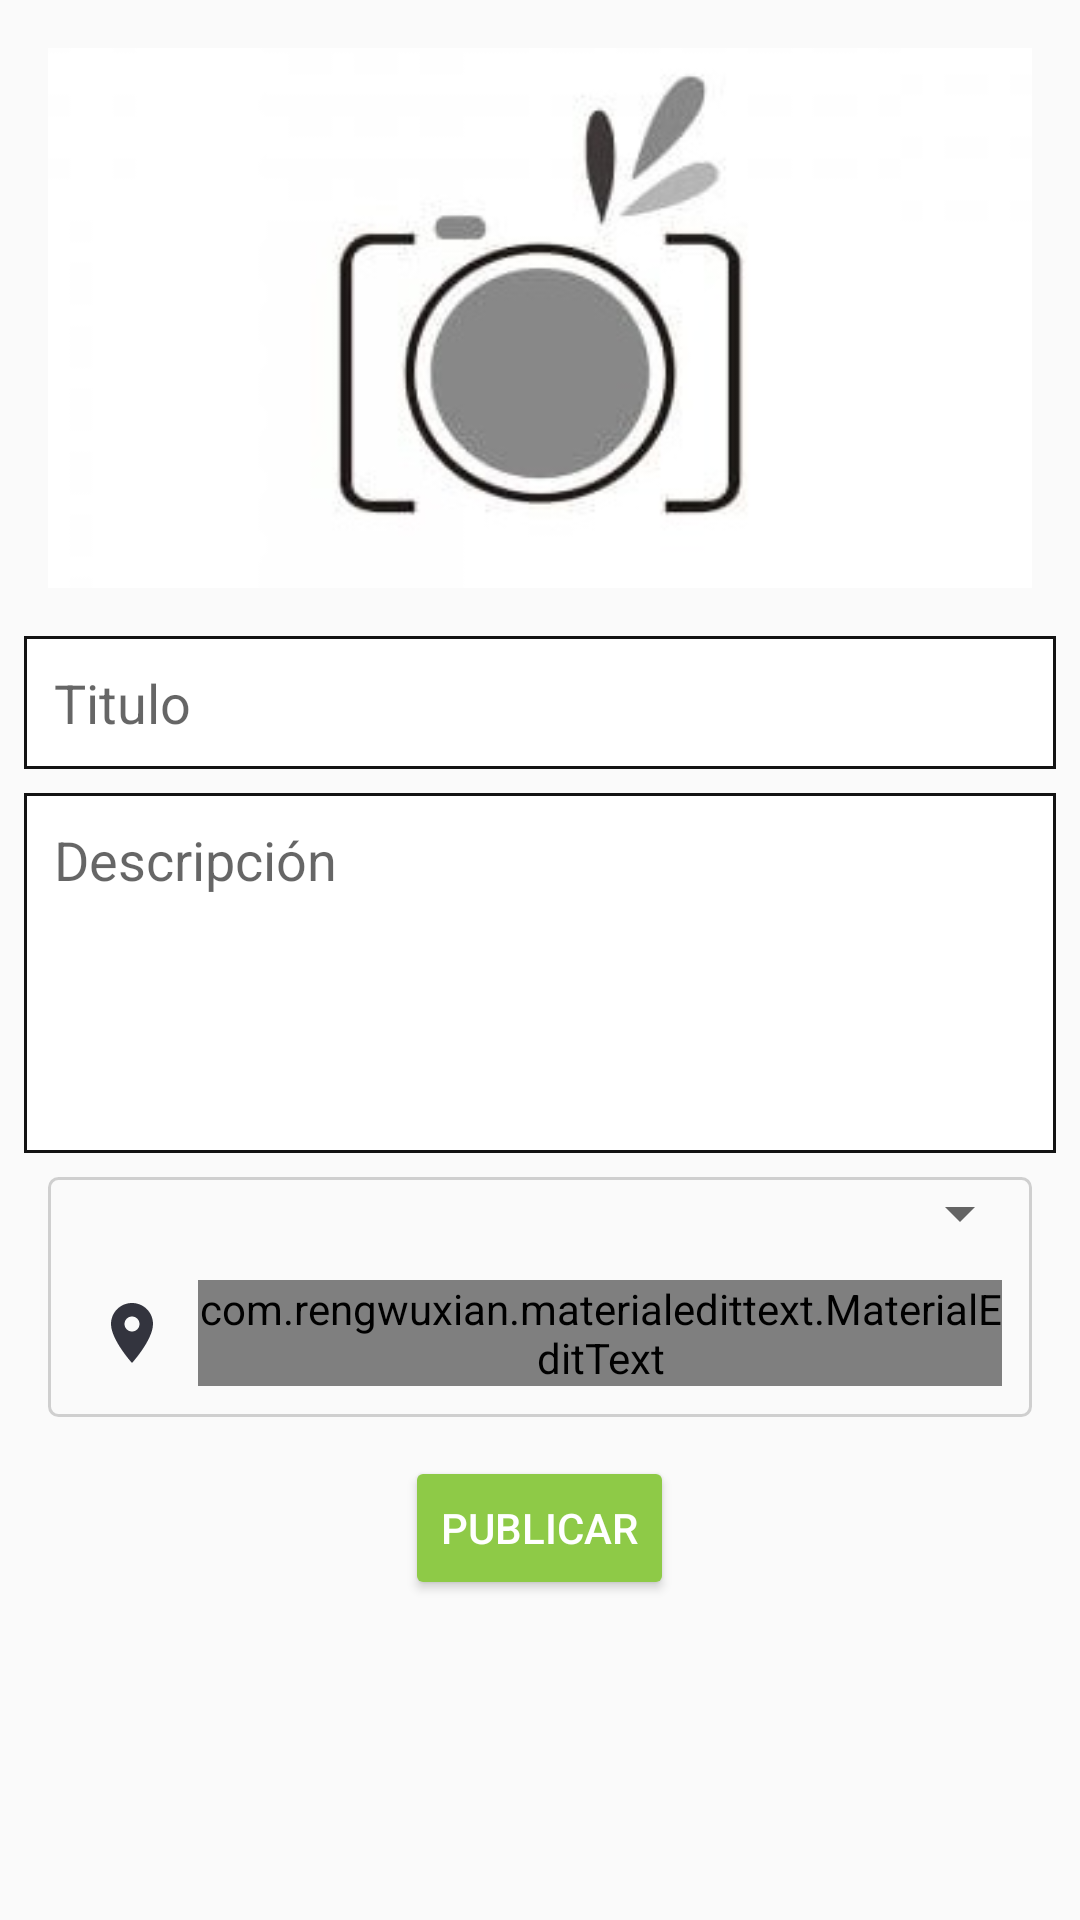

Icon bounding boxes for this 1080x1920 phone screenshot, format Rect(x1, y1, x2, y2):
ubicacion: Rect(111, 1303, 153, 1363)
